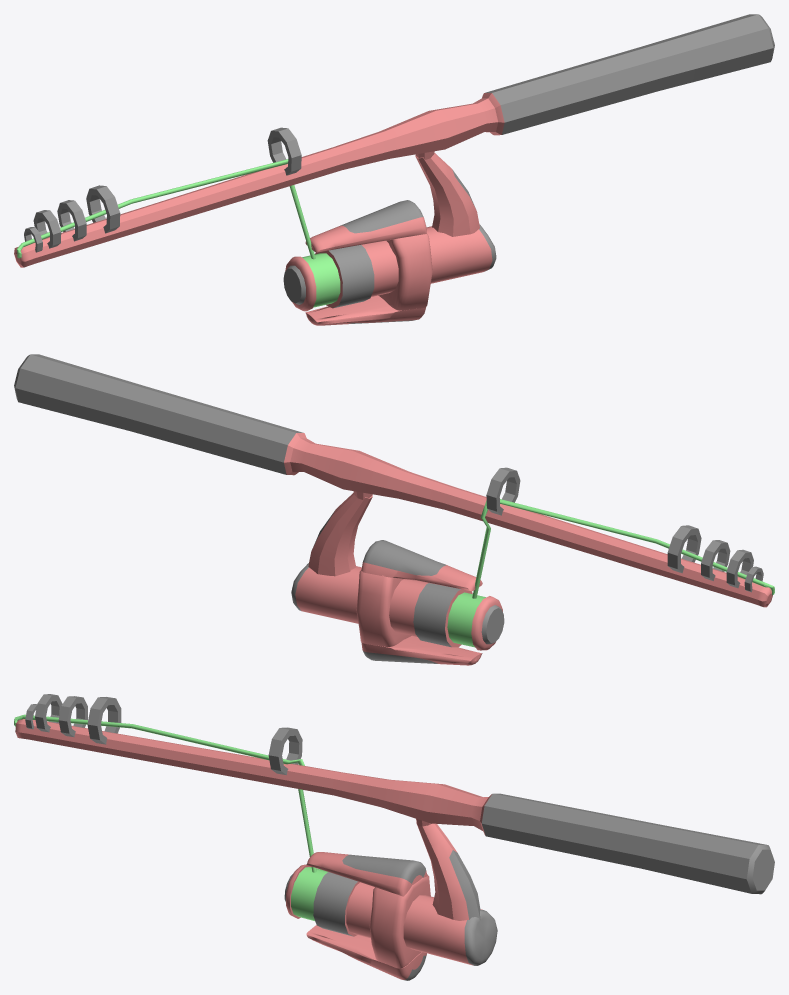
File: FishingReelFolded.fbx
3 renders of one model, top to bottom at view 1: azimuth 30°, elevation 25°; view 2: azimuth 150°, elevation 25°; view 3: azimuth 330°, elevation 25°, orthographic.
Parts seen in each view (by area): view 1: fishing_reel_folded; view 2: fishing_reel_folded; view 3: fishing_reel_folded.
Part boxes in pixels (bbox=[...]): fishing_reel_folded: bbox=[14, 14, 774, 325]; fishing_reel_folded: bbox=[14, 354, 774, 665]; fishing_reel_folded: bbox=[14, 694, 774, 980].
Size of the model in its own units: 240 by 67.28 by 20.25.
